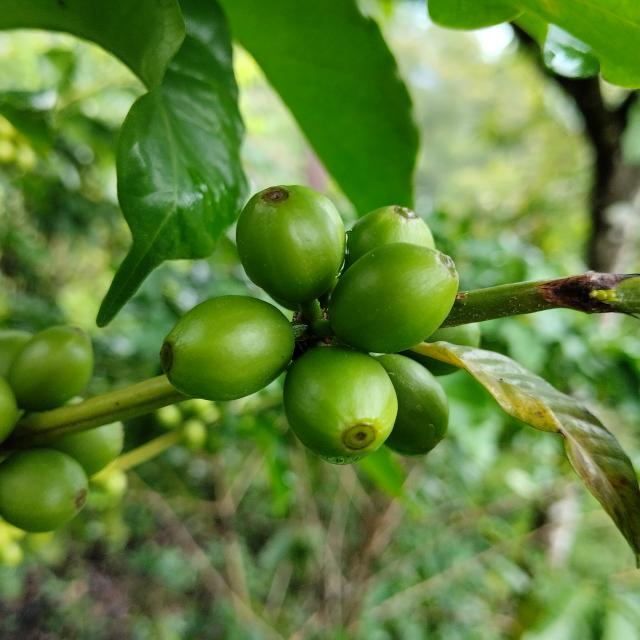green: (329, 242, 459, 353), (159, 295, 295, 401), (284, 347, 398, 465), (236, 185, 346, 304), (375, 354, 450, 457), (0, 449, 88, 533), (343, 205, 435, 272)
